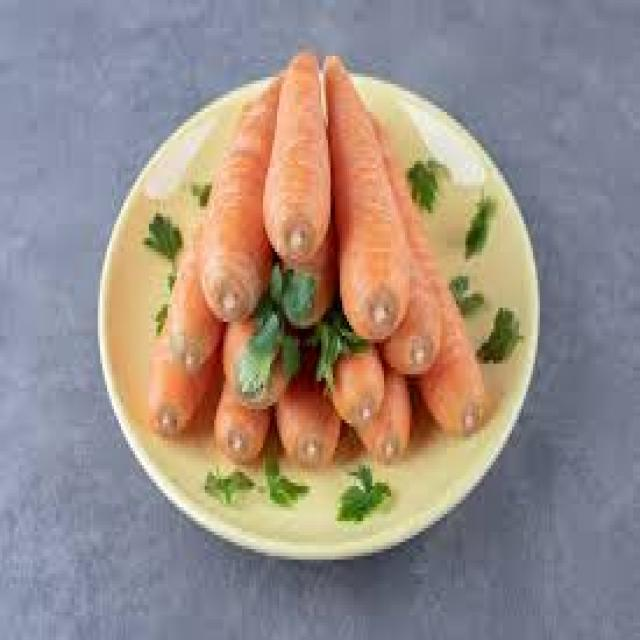Fresh_Carrot: (164, 52, 473, 470)
